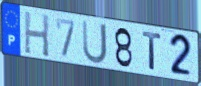2: (167, 33, 195, 79)
7: (55, 17, 76, 59)
8: (113, 26, 134, 68)
H: (23, 10, 51, 60)
T: (141, 30, 163, 73)
U: (81, 19, 109, 66)
